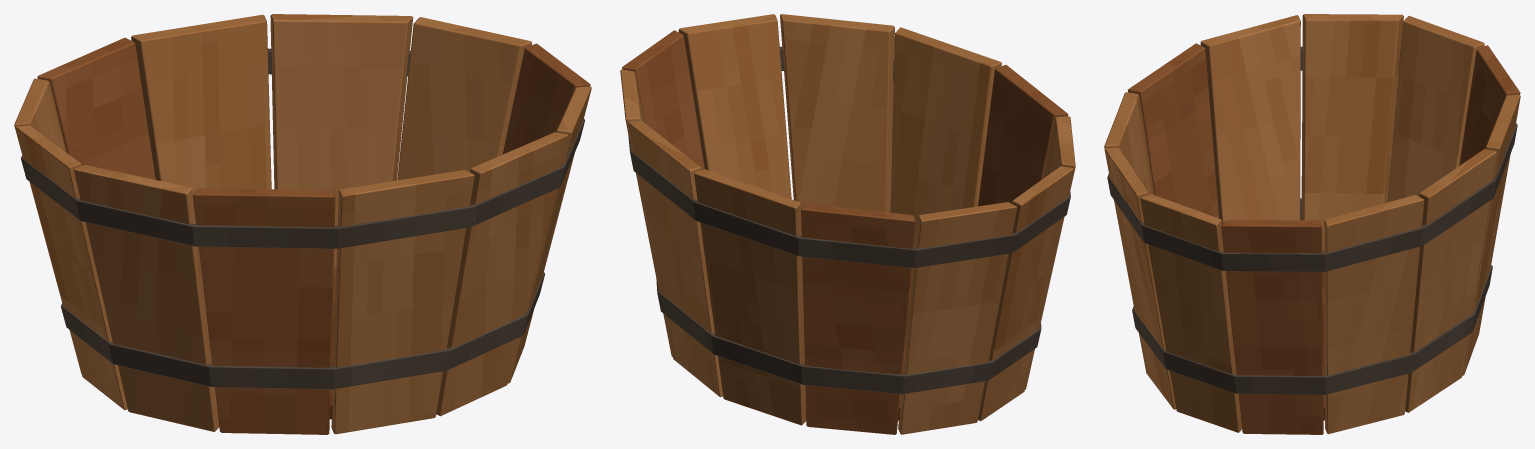
File: OakWashTub.glb
3 views of the same model, side by side, from view 1: azimuth 30°, elevation 25°; view 2: azimuth 150°, elevation 25°; view 3: azimuth 270°, elevation 25° (orthographic). The views are drawn at different scales.
Visible parts, largest first — view 1: OakWashTub.Staves, OakWashTub.Upper-hoop, OakWashTub.Lower-hoop; view 2: OakWashTub.Staves, OakWashTub.Upper-hoop, OakWashTub.Lower-hoop; view 3: OakWashTub.Staves, OakWashTub.Upper-hoop, OakWashTub.Lower-hoop.
Part boxes in pixels (<box>): OakWashTub.Staves: <box>14,14,591,434</box>; OakWashTub.Upper-hoop: <box>21,48,584,248</box>; OakWashTub.Lower-hoop: <box>61,272,544,389</box>; OakWashTub.Staves: <box>620,14,1075,434</box>; OakWashTub.Upper-hoop: <box>628,46,1070,268</box>; OakWashTub.Lower-hoop: <box>656,279,1041,394</box>; OakWashTub.Staves: <box>1104,14,1520,434</box>; OakWashTub.Upper-hoop: <box>1107,46,1517,271</box>; OakWashTub.Lower-hoop: <box>1132,198,1492,394</box>.
Size of the model in its own units: 0.6811 by 0.349 by 0.5638.
4 materials, 4 textured.
